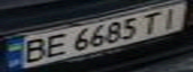5: (118, 16, 145, 40)
6: (69, 26, 93, 53), (90, 23, 112, 48)
8: (103, 19, 127, 45)
B: (15, 35, 51, 65)
E: (39, 31, 72, 60)
I: (154, 6, 187, 30)
T: (136, 10, 169, 35)
